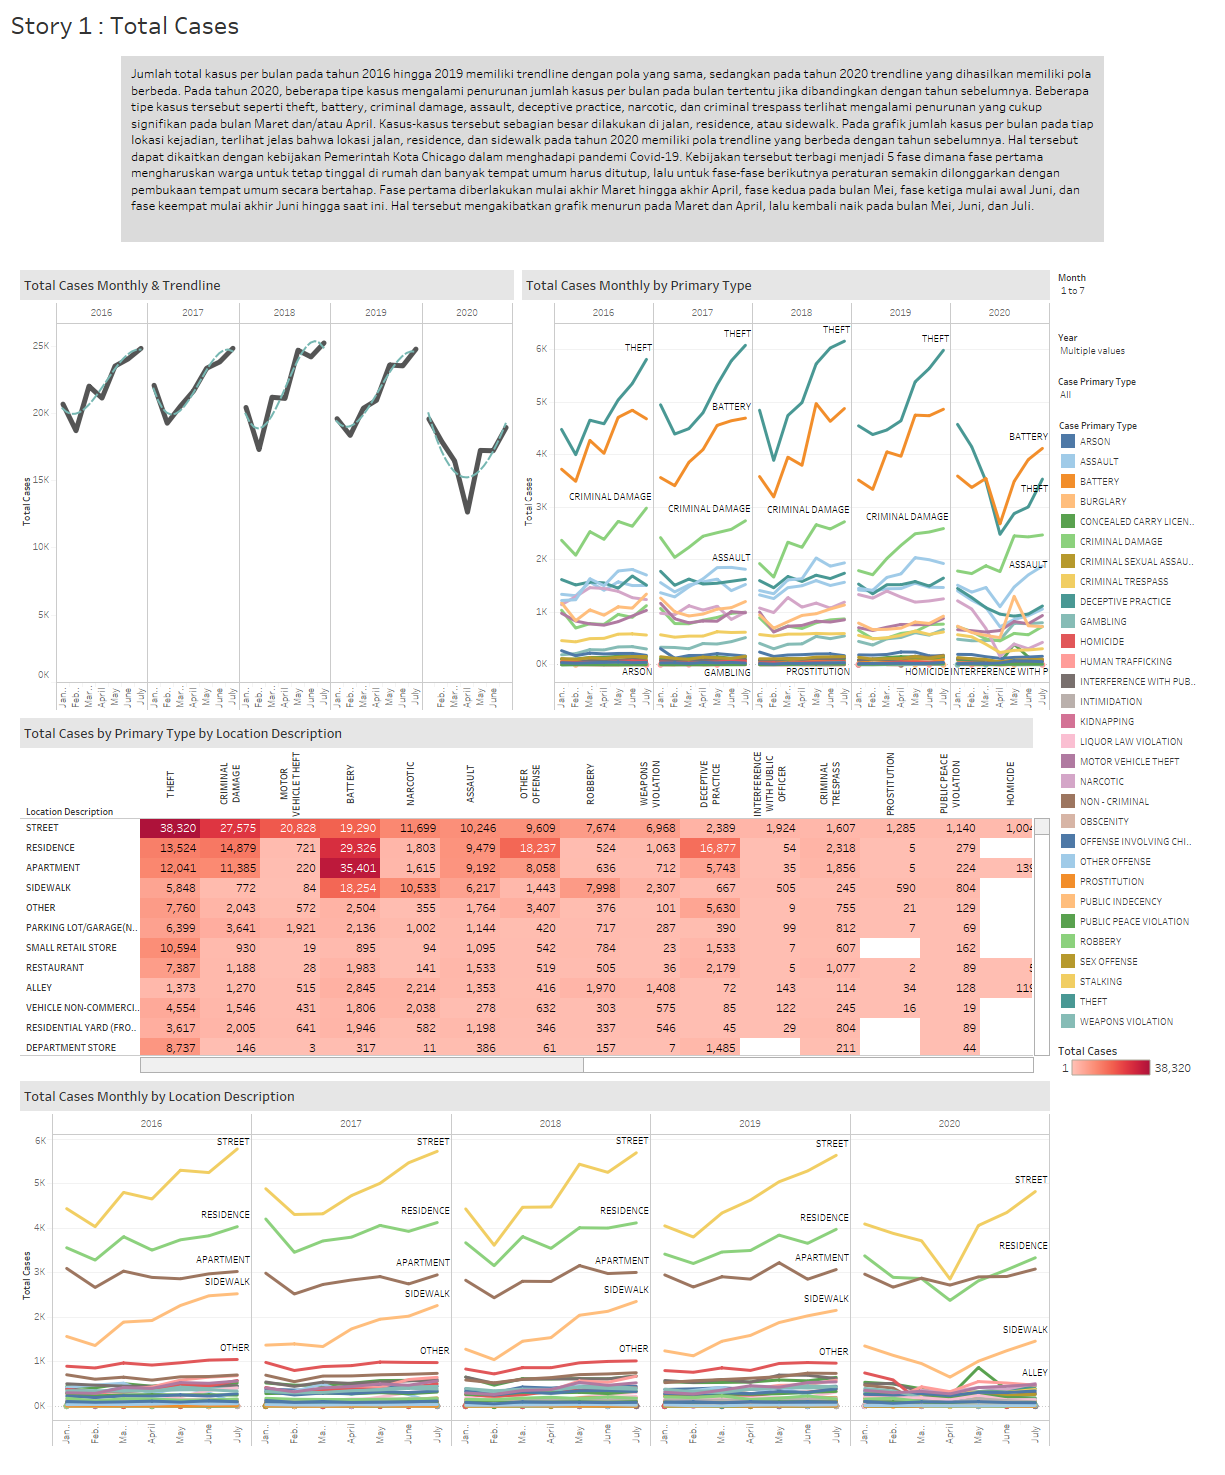

The dashboard page shown, as its layout file describes it:
{"tool":"tableau","page":{"name":"Total Cases","canvas":[1200,1200],"ordinal":1},"visuals":[{"type":"worksheet","box":[0,0,1200,1200]},{"type":"worksheet","param":"horz","box":[8,8,1184,1184]},{"type":"worksheet","box":[8,8,1038,1184]},{"type":"worksheet","title":"Total Cases Monthly & Trendline","mark":"Line","rows":["duplicate_sign"],"cols":["date","date"],"box":[8,8,501.5,447.7]},{"type":"worksheet","title":"Total Cases Monthly by Primary Type","mark":"Automatic","rows":["duplicate_sign"],"cols":["date","date"],"box":[509.5,8,536.5,447.7]},{"type":"worksheet","param":"vert","box":[1046,8,146,1184]},{"type":"worksheet","title":"Total Cases by Type by Location","mark":"Square","rows":["location_description"],"cols":["primary_type_clean"],"param":"[federated.02uvfn11l44j1b16vrfda0fwkby9].[none:month:qk]","box":[1046,8,146,60]},{"type":"worksheet","title":"Total Cases by Type by Location","mark":"Square","rows":["location_description"],"cols":["primary_type_clean"],"param":"[federated.02uvfn11l44j1b16vrfda0fwkby9].[none:year:ok]","box":[1046,68,146,44]},{"type":"worksheet","title":"Total Cases by Type by Location","mark":"Square","rows":["location_description"],"cols":["primary_type_clean"],"param":"[federated.02uvfn11l44j1b16vrfda0fwkby9].[none:primary_type_clean:nk]","box":[1046,112,146,43]},{"type":"worksheet","title":"Total Cases Monthly by Primary Type","mark":"Automatic","rows":["duplicate_sign"],"cols":["date","date"],"param":"[federated.02uvfn11l44j1b16vrfda0fwkby9].[none:primary_type_clean:nk]","box":[1046,155,146,622]},{"type":"worksheet","title":"Total Cases by Type by Location","mark":"Square","rows":["location_description"],"cols":["primary_type_clean"],"box":[8,455.7,1038,362.9]},{"type":"worksheet","title":"Total Cases by Type by Location","mark":"Square","rows":["location_description"],"cols":["primary_type_clean"],"param":"[federated.02uvfn11l44j1b16vrfda0fwkby9].[sum:duplicate_sign:qk]","box":[1046,777,146,62]},{"type":"worksheet","title":"Total Cases by Location Description","mark":"Automatic","rows":["duplicate_sign"],"cols":["date","date"],"box":[8,818.6,1038,373.4]}]}

Visuals, with their boxes on the page's 1200x1200 design canvas (x1, y1, x2, y2). These are canvas units, not pixel positions in the 1225x1475 screenshot, which may show the page scaled, cropped or inside an application window:
worksheet: [left=0, top=0, right=1200, bottom=1200]
worksheet: [left=8, top=8, right=1192, bottom=1192]
worksheet: [left=8, top=8, right=1046, bottom=1192]
"Total Cases Monthly & Trendline" worksheet (Line marks): [left=8, top=8, right=510, bottom=456]
"Total Cases Monthly by Primary Type" worksheet: [left=510, top=8, right=1046, bottom=456]
worksheet: [left=1046, top=8, right=1192, bottom=1192]
"Total Cases by Type by Location" worksheet (Square marks): [left=1046, top=8, right=1192, bottom=68]
"Total Cases by Type by Location" worksheet (Square marks): [left=1046, top=68, right=1192, bottom=112]
"Total Cases by Type by Location" worksheet (Square marks): [left=1046, top=112, right=1192, bottom=155]
"Total Cases Monthly by Primary Type" worksheet: [left=1046, top=155, right=1192, bottom=777]
"Total Cases by Type by Location" worksheet (Square marks): [left=8, top=456, right=1046, bottom=819]
"Total Cases by Type by Location" worksheet (Square marks): [left=1046, top=777, right=1192, bottom=839]
"Total Cases by Location Description" worksheet: [left=8, top=819, right=1046, bottom=1192]
